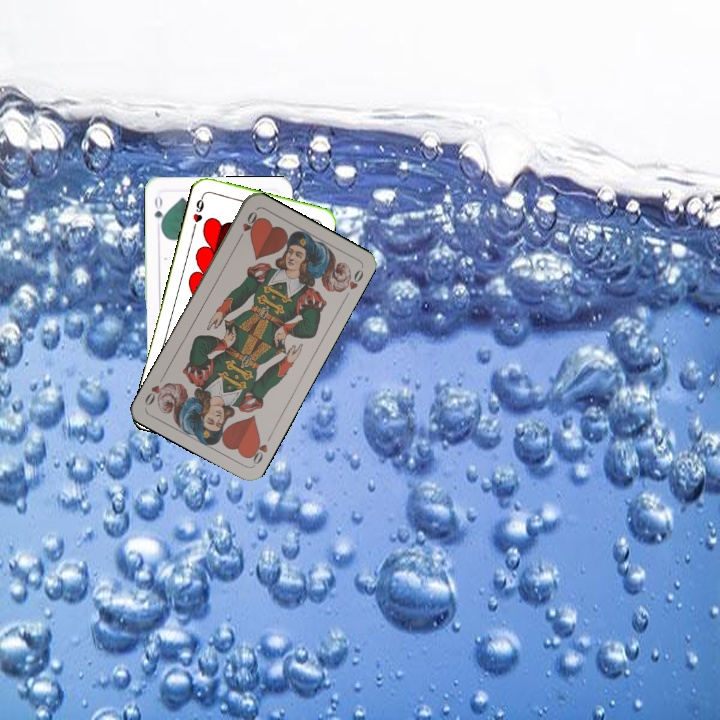GO: (150, 192, 167, 232)
H9: (189, 191, 207, 231)
HO: (244, 430, 274, 467), (234, 207, 260, 244)
